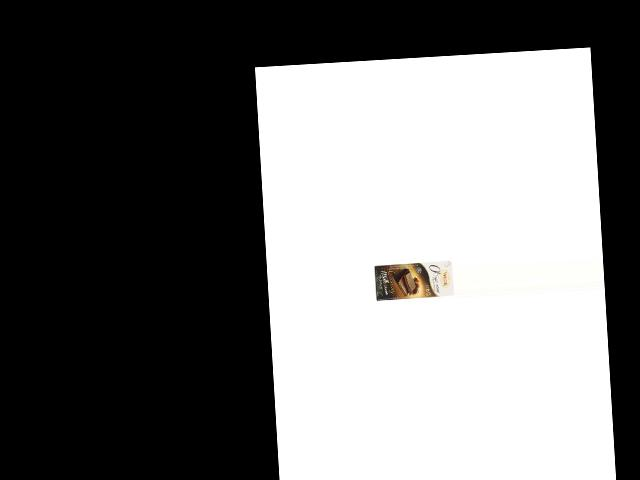chocolate: (373, 258, 454, 302)
